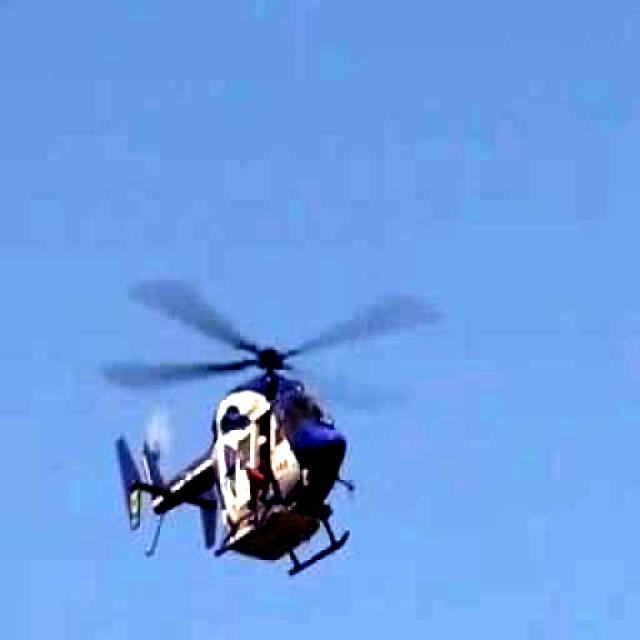drone: (54, 252, 478, 601)
